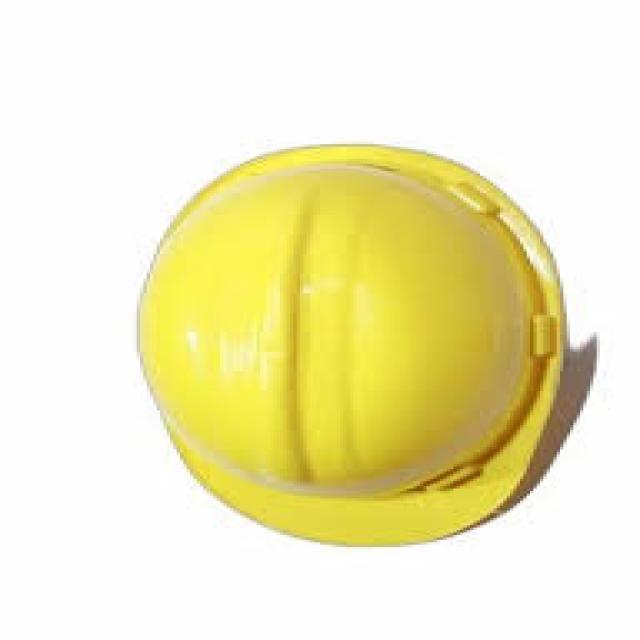Safety-Helmet: (110, 130, 597, 552)
